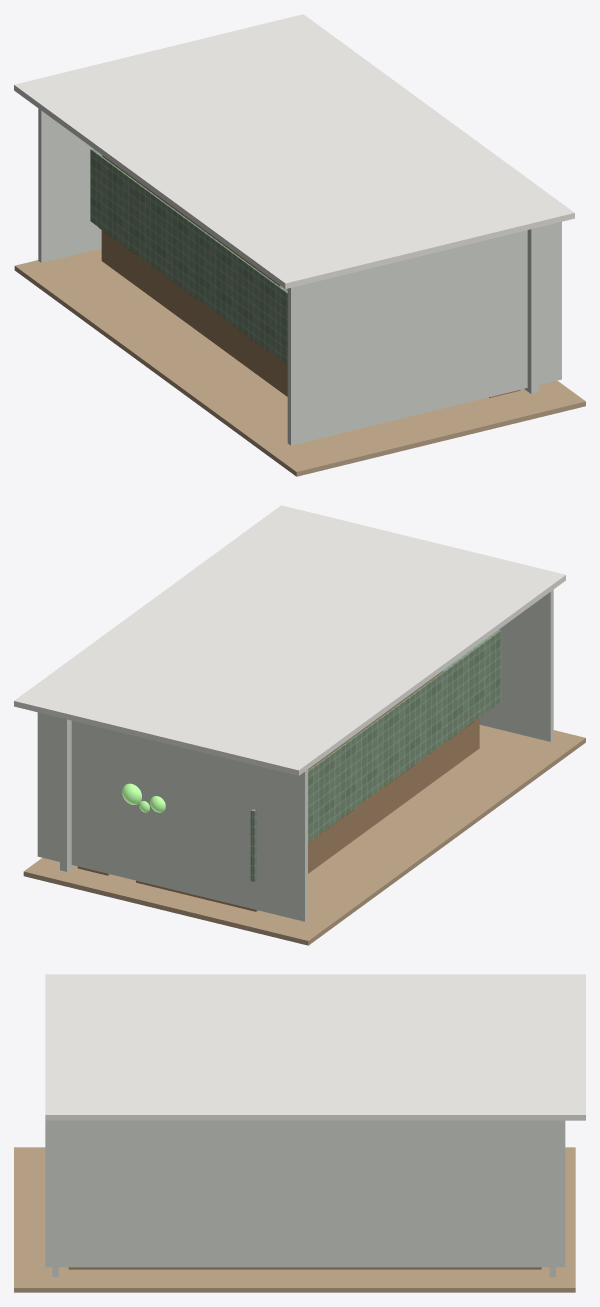
The model's file is kitchen_environment.glb.
3 renders of one model, top to bottom at view 1: azimuth 30°, elevation 25°; view 2: azimuth 150°, elevation 25°; view 3: azimuth 270°, elevation 25°, orthographic.
Visible parts, largest first — view 1: Cube.009, Cube.008, Cube.002, Cube.003, Cube.007, Cube.001, Cube.010; view 2: Cube.009, Cube.007, Cube.002, Cube.003, Cube.008, Cube.001, Cube.010; view 3: Cube.009, Cube.010, Cube.002, Cube.012, Cube.008, Cube.007.
Part boxes in pixels (x1,y1,x2,y2): Cube.009: (14,14,574,288); Cube.008: (287,222,561,445); Cube.002: (14,248,585,476); Cube.003: (90,148,287,365); Cube.007: (38,108,101,262); Cube.001: (101,230,287,396); Cube.010: (524,227,538,394); Cube.009: (14,505,565,775); Cube.007: (37,712,307,921); Cube.002: (23,725,585,945); Cube.003: (250,630,501,881); Cube.008: (479,590,553,741); Cube.001: (136,718,479,911); Cube.010: (60,718,74,871); Cube.009: (45,974,585,1120); Cube.010: (45,1120,565,1267); Cube.002: (14,1147,575,1292); Cube.012: (68,1267,541,1269); Cube.008: (52,1120,58,1276); Cube.007: (549,1120,555,1276).
Bounding box in the file's own units: 32.5 × 19.1 × 55.
22 materials, 4 textured.
